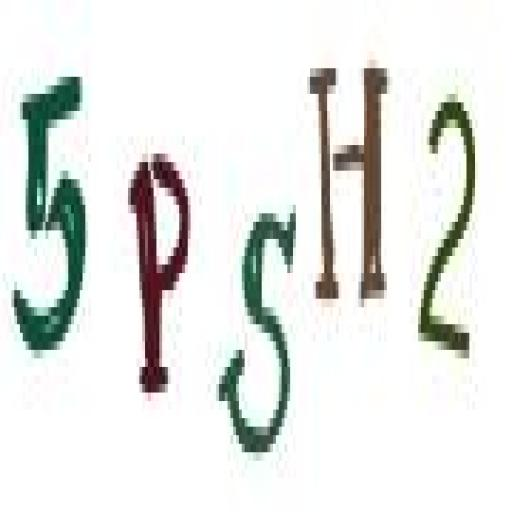2: (411, 73, 481, 380)
5: (10, 67, 90, 363)
H: (308, 46, 391, 315)
P: (123, 139, 194, 417)
S: (217, 192, 300, 478)
